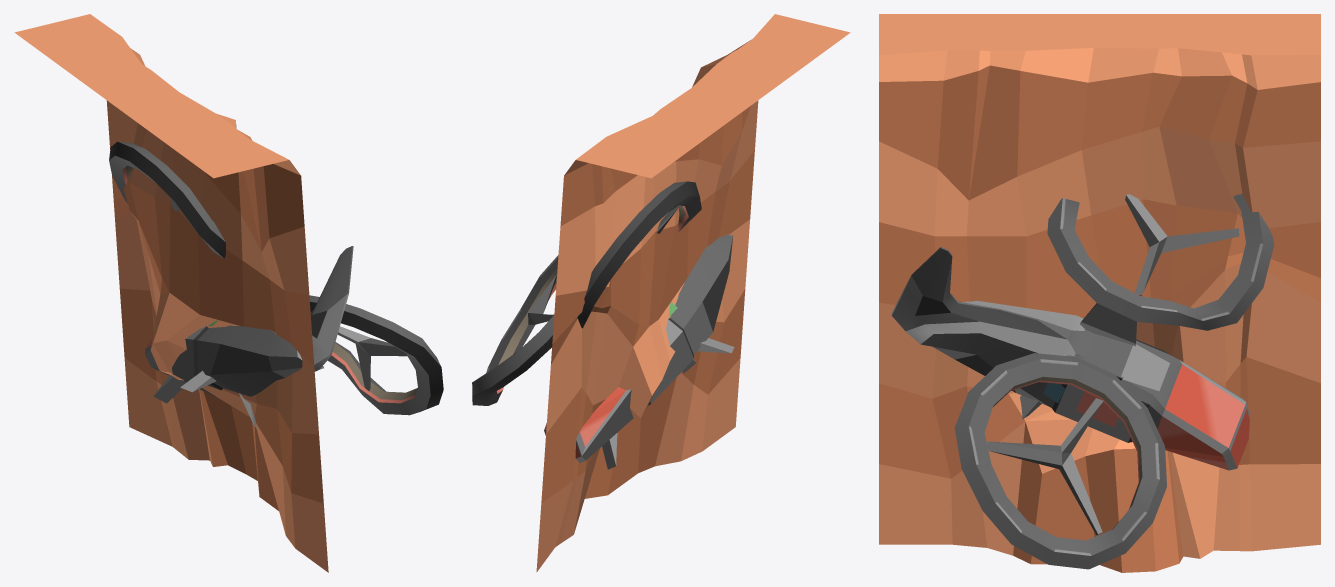
File: Hero_Cliff_Space_Ship.fbx
The picture shows the model from 3 angles, left to right: view 1: azimuth 30°, elevation 25°; view 2: azimuth 150°, elevation 25°; view 3: azimuth 270°, elevation 25°; orthographic projection. The views are drawn at different scales.
Visible parts, largest first — view 1: Hero_Cliff_Space_Ship; view 2: Hero_Cliff_Space_Ship; view 3: Hero_Cliff_Space_Ship.
Boxes of the visible parts, <box> form: Hero_Cliff_Space_Ship: <box>14,14,443,572</box>; Hero_Cliff_Space_Ship: <box>472,14,850,572</box>; Hero_Cliff_Space_Ship: <box>879,14,1320,572</box>.
Size of the model in its own units: 496 by 707 by 600.
